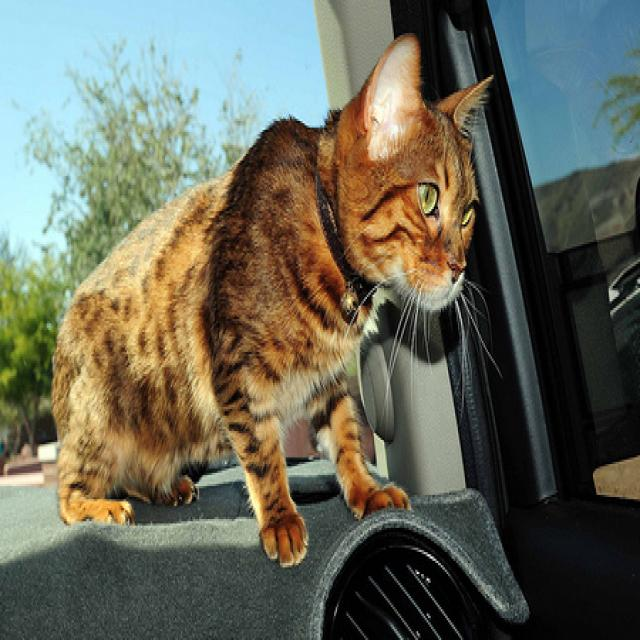Bengal: (52, 31, 500, 574)
